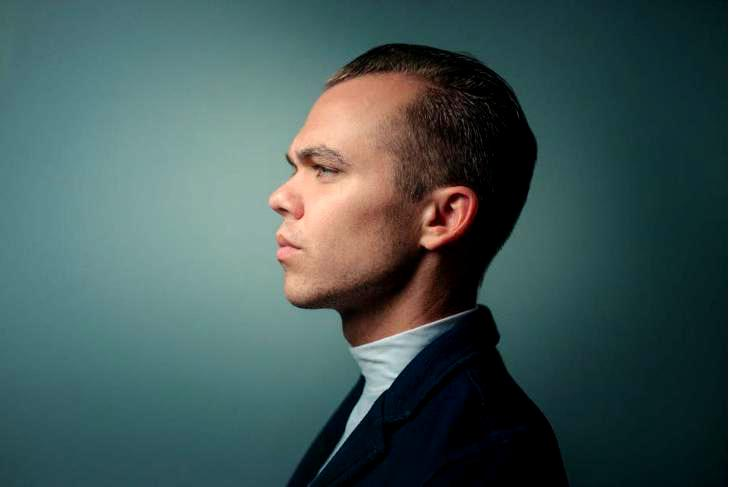face: (268, 72, 411, 307)
